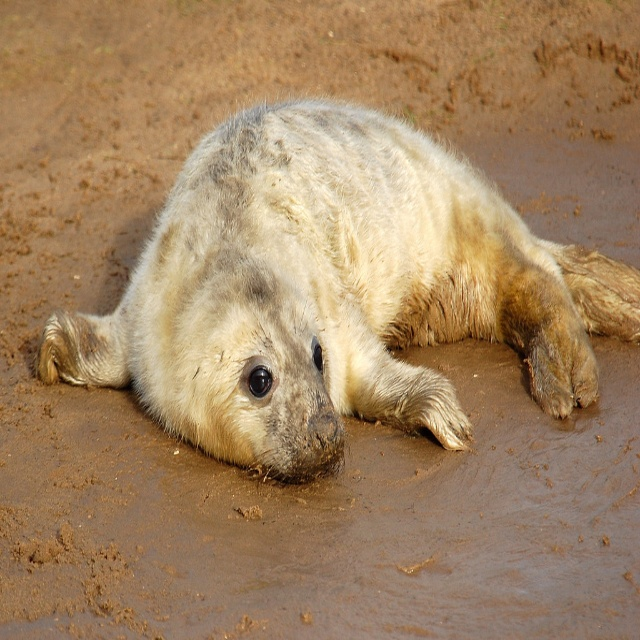Harbor seal: (30, 84, 640, 497)
